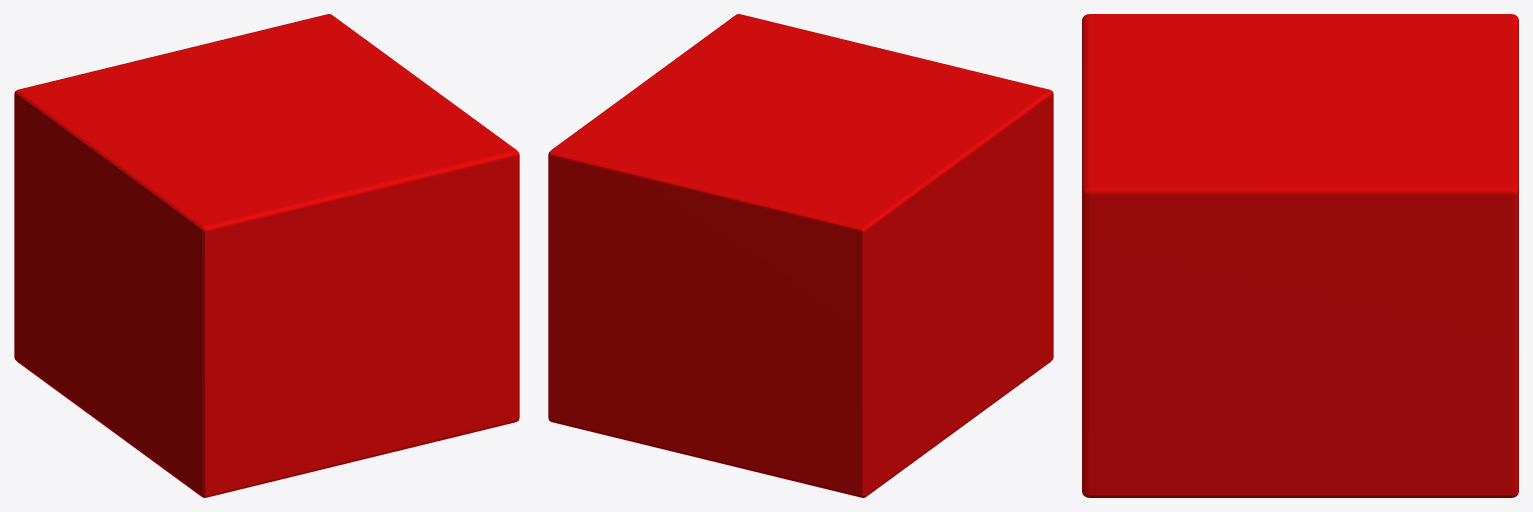
Rendered from Small_Box.fbx.
The picture shows the model from 3 angles, left to right: view 1: azimuth 30°, elevation 25°; view 2: azimuth 150°, elevation 25°; view 3: azimuth 270°, elevation 25°; orthographic projection. The views are drawn at different scales.
Visible parts, largest first — view 1: Small_Box; view 2: Small_Box; view 3: Small_Box.
Part boxes in pixels (<box>): Small_Box: <box>14,14,519,497</box>; Small_Box: <box>548,14,1053,497</box>; Small_Box: <box>1082,14,1518,497</box>.
Bounding box in the file's own units: 28.46 × 23.22 × 29.63.
